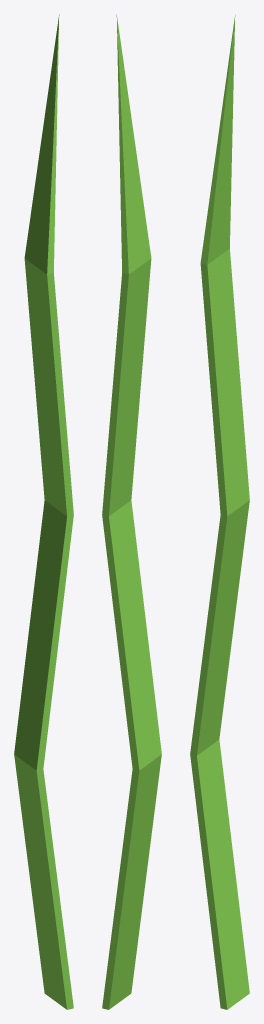
File: Gras uitsteeksel.fbx
3 views of the same model, side by side, from view 1: azimuth 30°, elevation 25°; view 2: azimuth 150°, elevation 25°; view 3: azimuth 330°, elevation 25° (orthographic).
Parts seen in each view (by area): view 1: grass; view 2: grass; view 3: grass.
Part boxes in pixels (x1=…): grass: x1=14, y1=14, x2=73, y2=1009; grass: x1=102, y1=14, x2=161, y2=1009; grass: x1=190, y1=15, x2=249, y2=1009.
Size of the model in its own units: 1.52 by 38.42 by 1.59.
